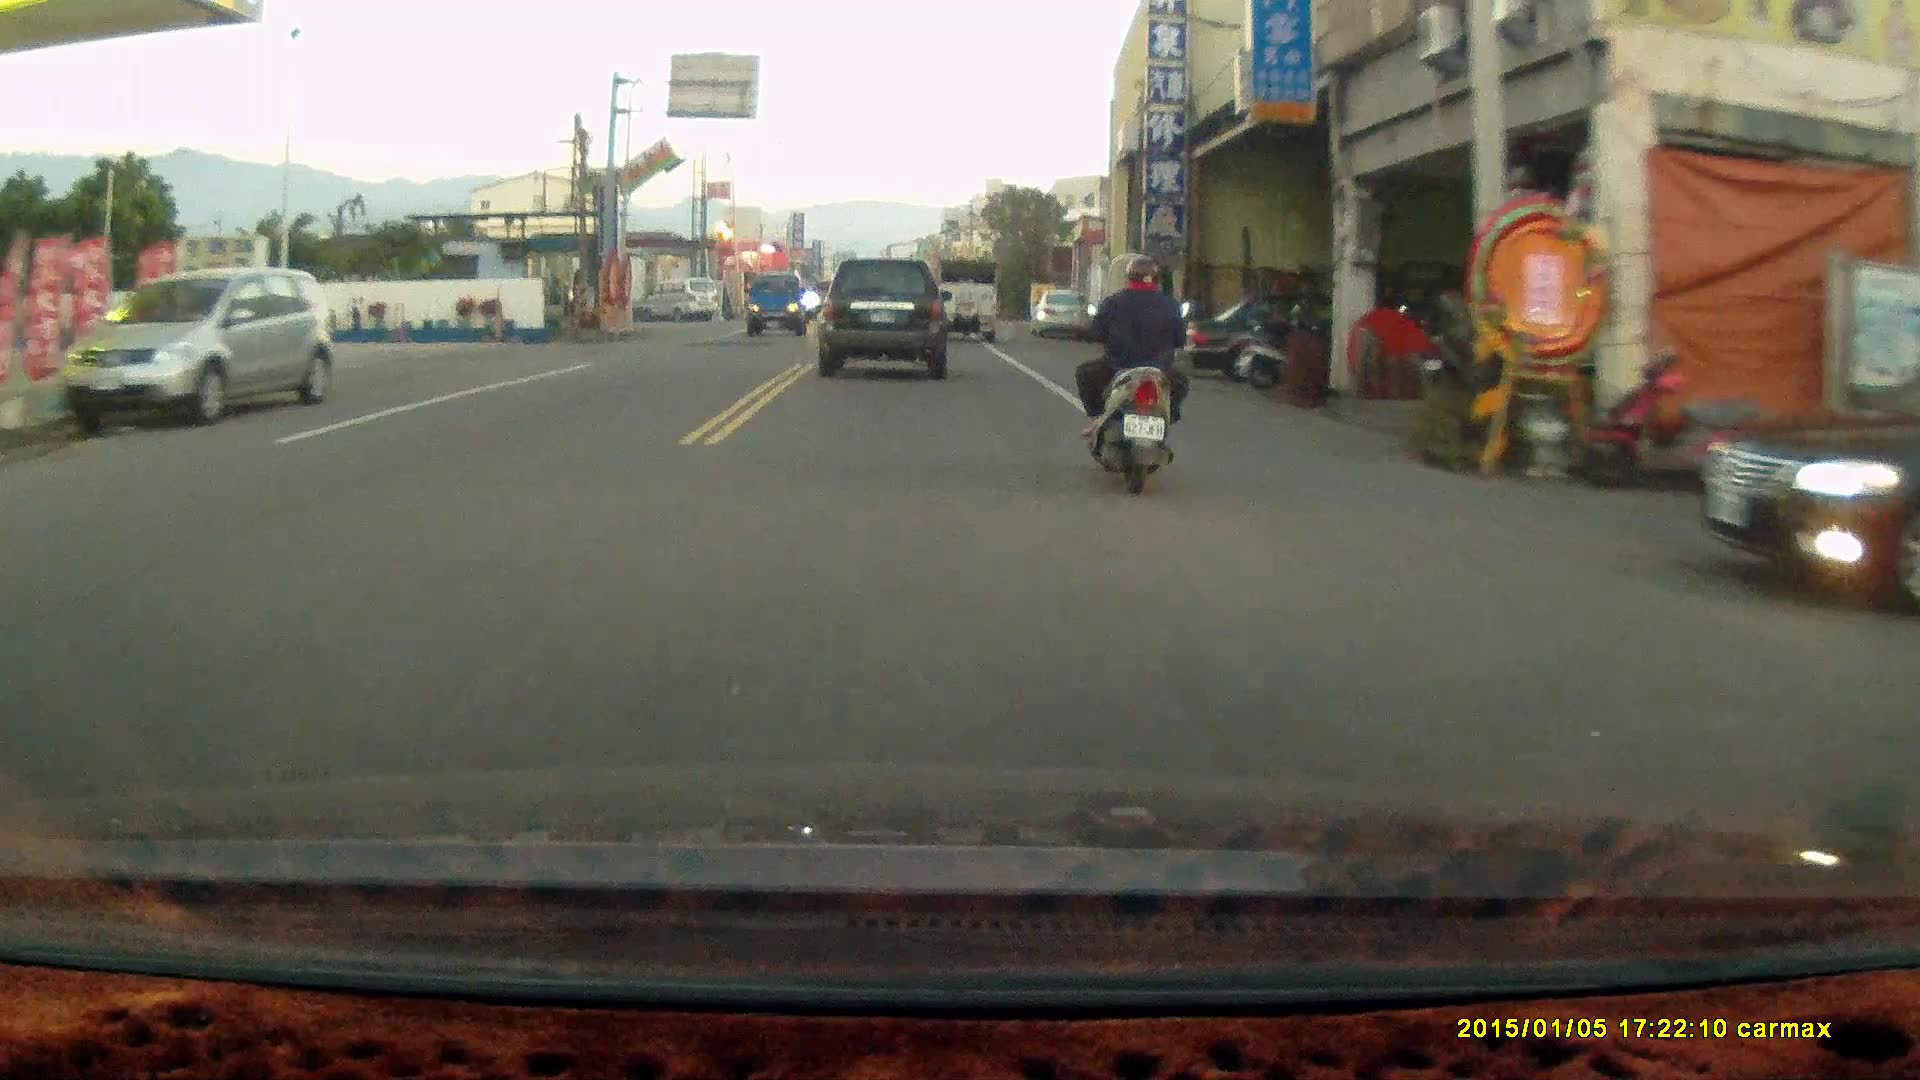rider: (1072, 252, 1186, 494)
vehicle: (1699, 360, 1920, 619), (50, 269, 335, 429), (1181, 289, 1407, 386), (815, 259, 952, 386), (928, 258, 1001, 343), (744, 273, 811, 339), (637, 280, 721, 324), (1031, 289, 1087, 340)
